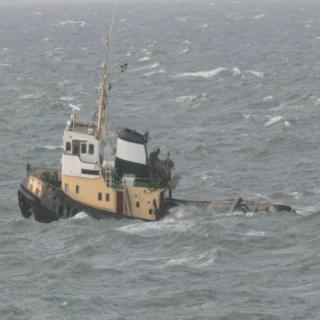Tug Boat: (0, 84, 310, 226)
